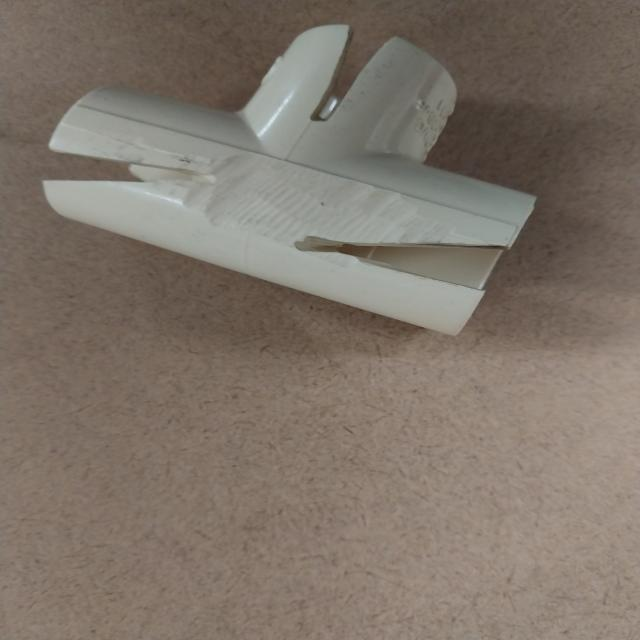Defective: (274, 231, 510, 300), (44, 139, 198, 189), (306, 27, 381, 123)
T Joint: (40, 25, 537, 339)
